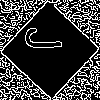J: (25, 25, 72, 52)
